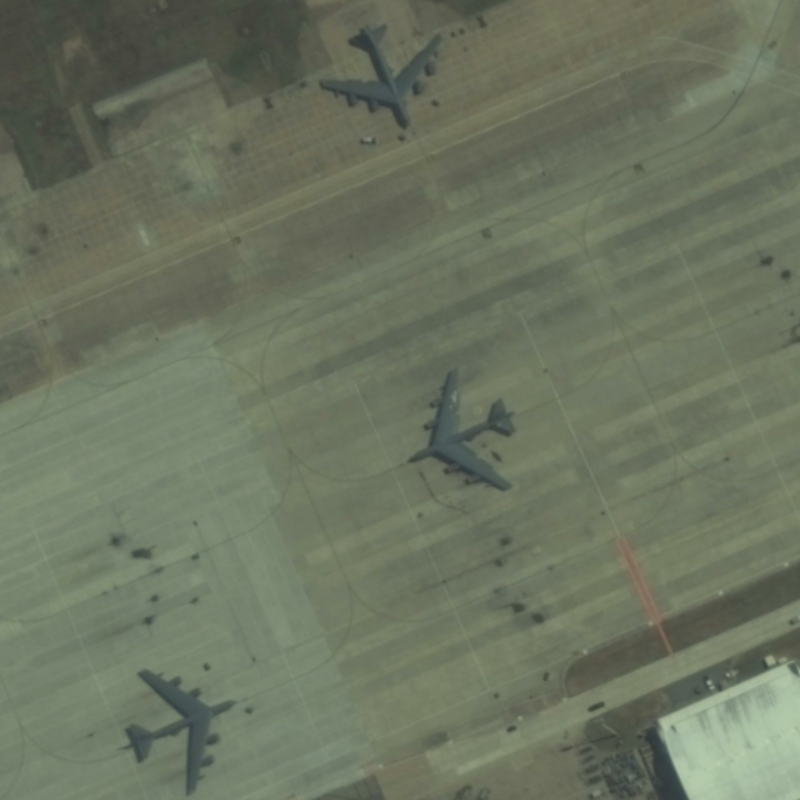A8: (397, 357, 522, 496), (120, 663, 243, 800), (315, 12, 449, 136)
